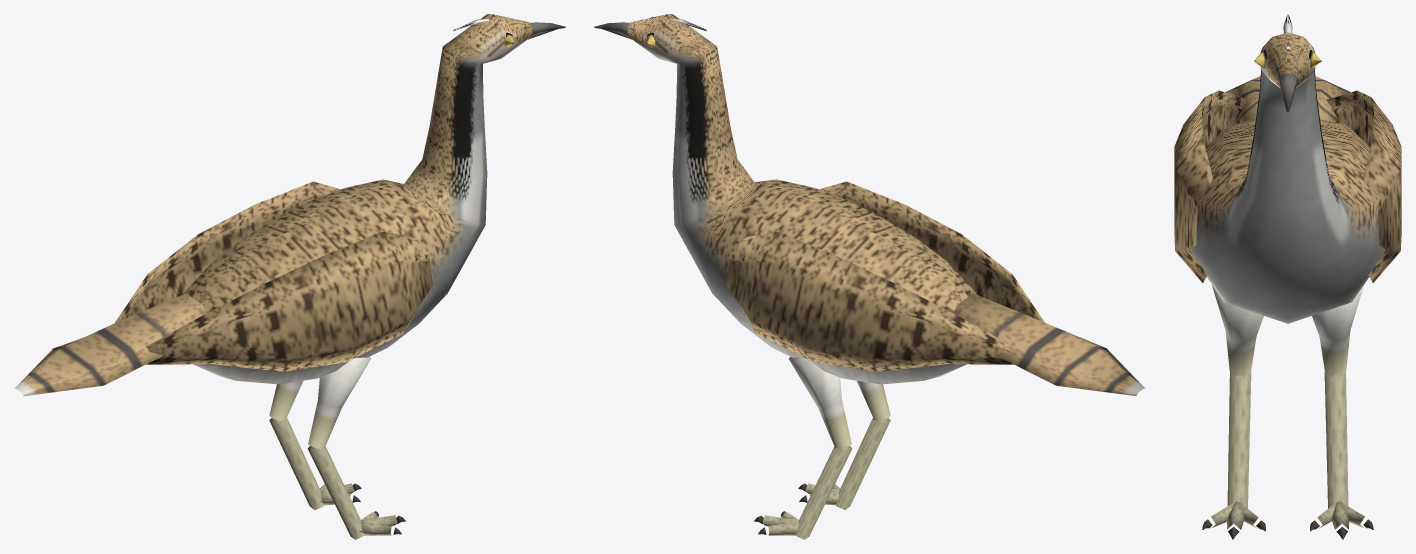
File: houbara_alert_lod1.glb
The picture shows the model from 3 angles, left to right: view 1: azimuth 30°, elevation 25°; view 2: azimuth 150°, elevation 25°; view 3: azimuth 270°, elevation 25°; orthographic projection. The views are drawn at different scales.
Parts seen in each view (by area): view 1: houbara_body; view 2: houbara_body; view 3: houbara_body.
Boxes of the visible parts, x1=… form: houbara_body: x1=14, y1=14, x2=565, y2=539; houbara_body: x1=594, y1=14, x2=1145, y2=539; houbara_body: x1=1174, y1=14, x2=1401, y2=539.
Size of the model in its own units: 0.527 by 0.4323 by 0.1532.
Materials: 1 (1 with a texture image).
